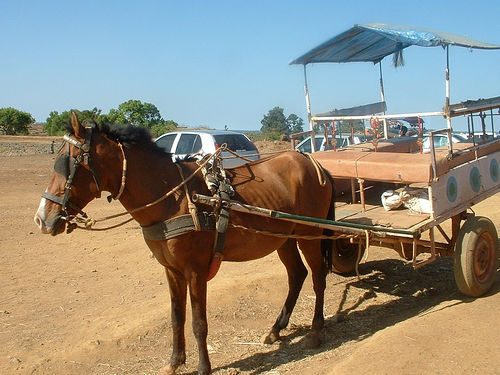horse: (40, 113, 336, 375)
